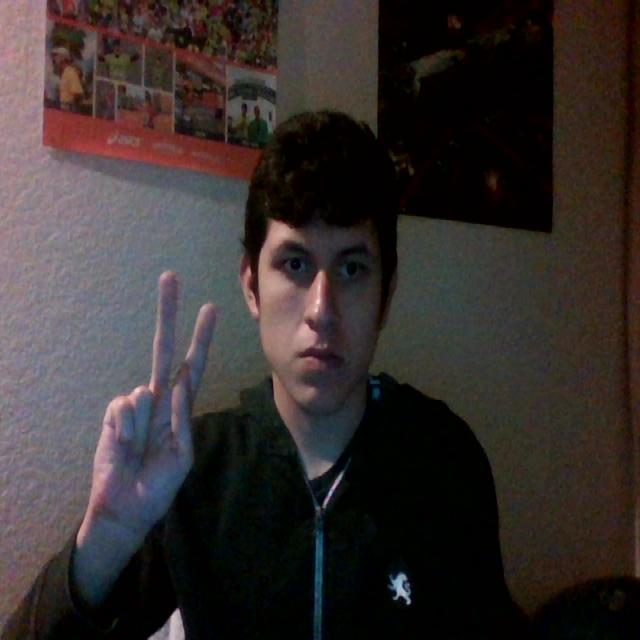K: (61, 218, 289, 578)
